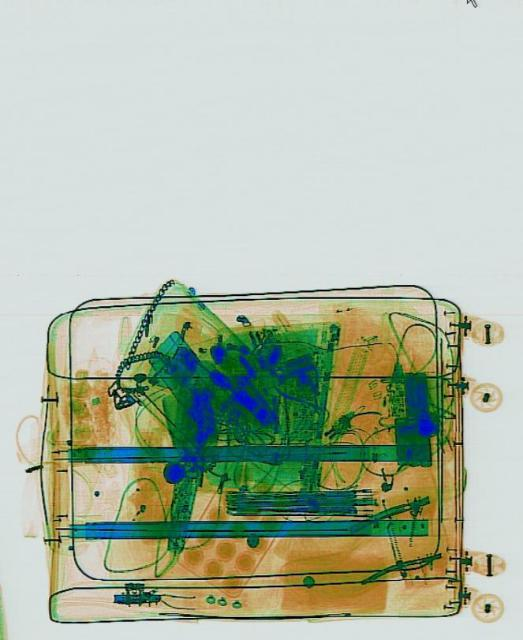Pliers: (272, 354, 337, 428)
